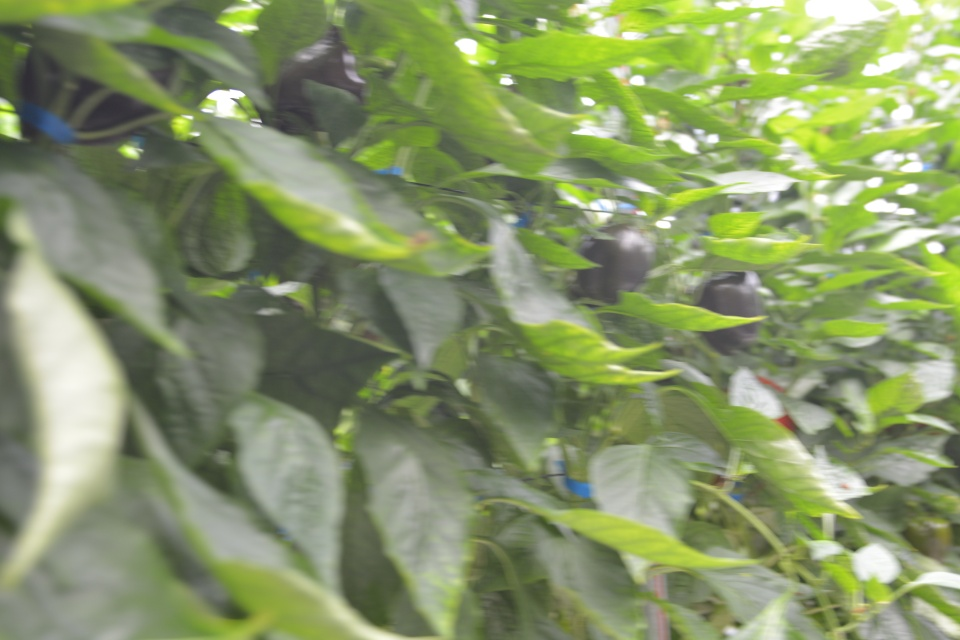fruit: (18, 42, 182, 148), (254, 24, 371, 145), (563, 212, 654, 308), (696, 269, 768, 356), (904, 513, 957, 560)
